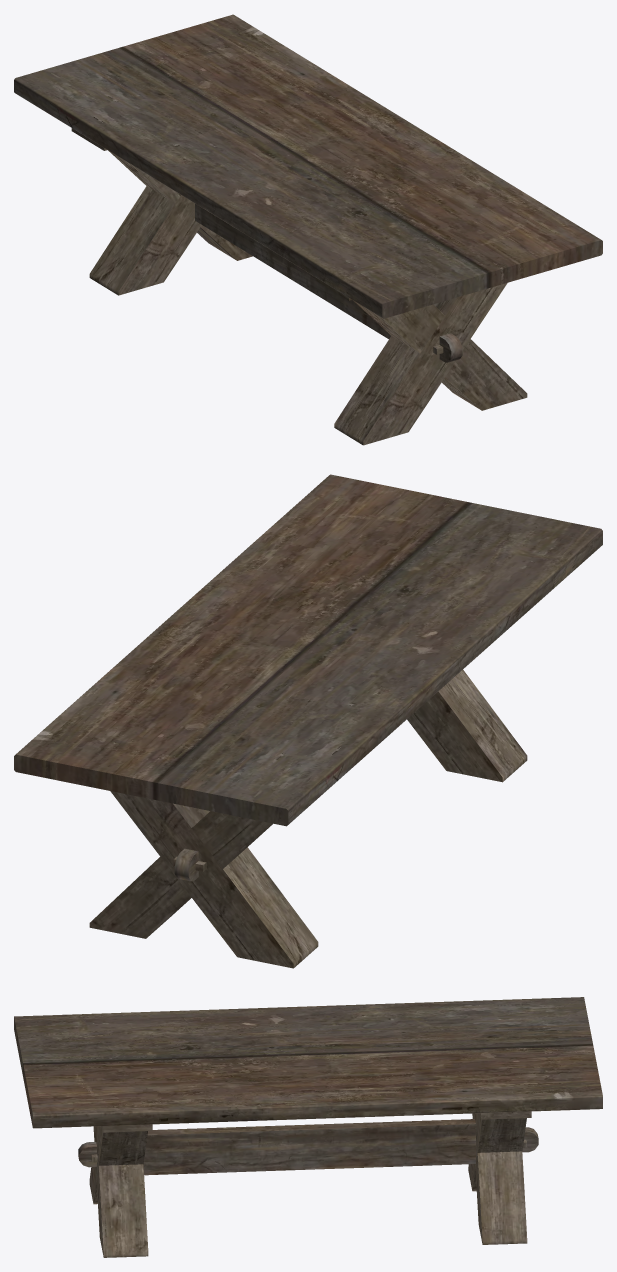
File: Bench_01.glb
3 views of the same model, one above another, from view 1: azimuth 30°, elevation 25°; view 2: azimuth 150°, elevation 25°; view 3: azimuth 270°, elevation 25° (orthographic). The views are drawn at different scales.
Parts seen in each view (by area): view 1: SM_Bench_01; view 2: SM_Bench_01; view 3: SM_Bench_01.
Part boxes in pixels (x1=…): SM_Bench_01: x1=14, y1=14, x2=602, y2=445; SM_Bench_01: x1=14, y1=474, x2=602, y2=968; SM_Bench_01: x1=14, y1=997, x2=602, y2=1257.
Size of the model in its own units: 0.7806 by 0.482 by 1.63.
Materials: 1 (1 with a texture image).
